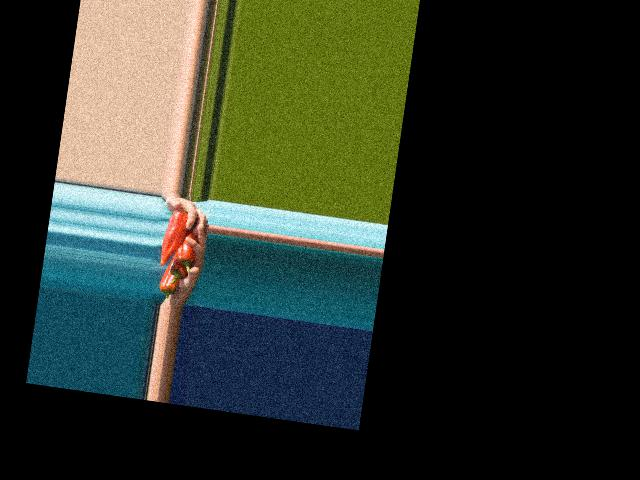bell_pepper: (157, 260, 183, 300)
